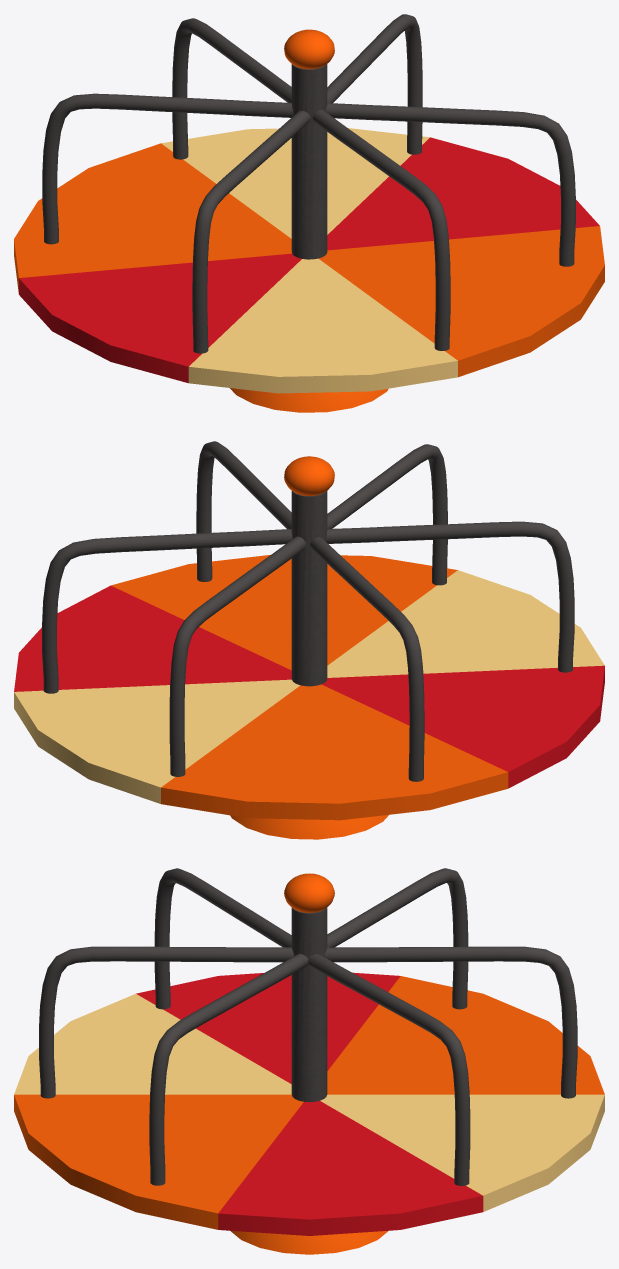
The model's file is asset.glb.
3 renders of one model, top to bottom at view 1: azimuth 30°, elevation 25°; view 2: azimuth 150°, elevation 25°; view 3: azimuth 270°, elevation 25°, orthographic.
Parts seen in each view (by area): view 1: pCylinder9, Carousel:pCone1; view 2: pCylinder9, Carousel:pCone1; view 3: pCylinder9, Carousel:pCone1.
Boxes of the visible parts, <box> form: pCylinder9: <box>14,14,604,393</box>; Carousel:pCone1: <box>230,388,388,412</box>; pCylinder9: <box>14,441,604,820</box>; Carousel:pCone1: <box>230,815,388,839</box>; pCylinder9: <box>14,868,604,1235</box>; Carousel:pCone1: <box>230,1230,388,1254</box>.
Size of the model in its own units: 0.254 by 0.1625 by 0.254.
4 materials, 4 textured.
